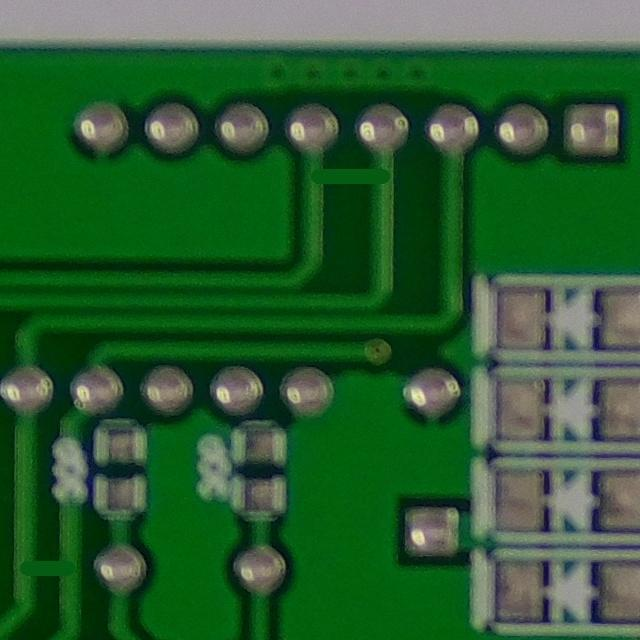short: (293, 143, 403, 205), (2, 535, 85, 604)
